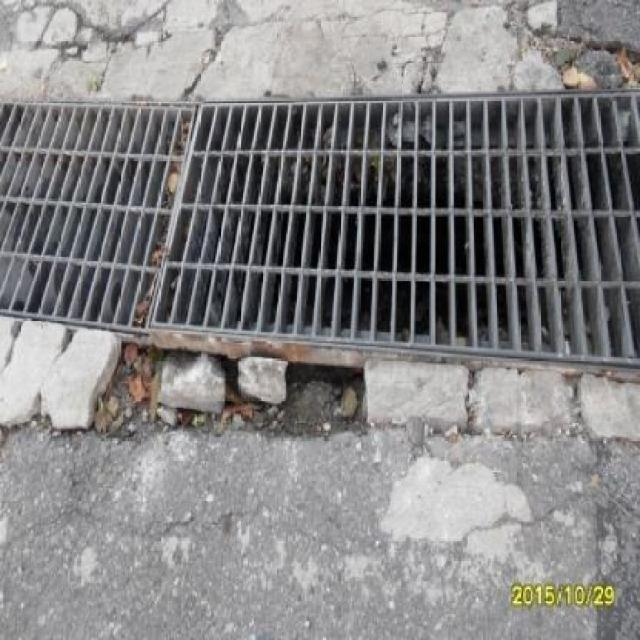Drain Hole: (4, 74, 630, 428)
